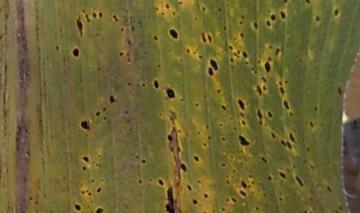tarspot: (166, 186, 174, 213), (75, 16, 84, 39), (79, 119, 90, 132), (167, 27, 178, 39), (238, 135, 250, 146), (209, 58, 219, 71), (70, 47, 80, 58), (166, 88, 175, 99), (295, 176, 304, 186), (180, 162, 187, 173), (238, 99, 245, 110), (201, 32, 207, 44), (256, 84, 262, 96), (207, 67, 214, 77), (279, 9, 286, 19), (265, 62, 271, 73), (283, 99, 289, 110), (336, 86, 343, 95), (257, 109, 263, 119), (112, 14, 119, 22), (109, 95, 116, 103), (261, 156, 268, 164), (239, 189, 247, 196), (280, 138, 286, 147), (289, 133, 295, 142), (241, 179, 247, 188), (269, 13, 276, 20), (279, 172, 286, 179), (157, 179, 164, 186), (85, 14, 91, 22), (82, 156, 90, 162), (167, 133, 173, 141), (253, 21, 259, 29), (75, 204, 81, 212), (96, 186, 102, 194), (279, 86, 284, 95), (334, 8, 339, 17), (95, 208, 104, 213), (242, 51, 248, 58), (265, 19, 271, 26), (239, 111, 245, 118), (138, 21, 144, 28), (318, 121, 325, 127), (55, 44, 60, 52), (154, 81, 159, 89), (276, 47, 280, 57), (287, 141, 292, 149), (309, 119, 314, 127), (327, 185, 332, 193), (208, 34, 212, 43), (194, 155, 200, 161), (176, 128, 182, 134), (239, 32, 245, 38), (192, 198, 198, 204), (99, 177, 105, 183), (285, 167, 291, 173), (95, 31, 101, 37), (165, 2, 170, 9), (202, 5, 207, 12), (267, 111, 272, 118), (271, 131, 276, 138), (268, 43, 273, 50), (187, 184, 192, 191), (28, 195, 33, 202), (95, 111, 101, 116), (127, 39, 132, 45), (153, 35, 158, 41), (228, 45, 234, 50), (242, 120, 247, 126), (278, 80, 284, 85), (179, 57, 184, 63), (204, 193, 209, 199), (225, 196, 230, 202), (339, 205, 344, 211), (97, 153, 102, 159), (93, 12, 97, 19), (131, 25, 135, 32), (186, 47, 190, 54), (98, 12, 103, 17), (119, 51, 124, 56), (102, 107, 107, 112), (120, 27, 125, 32), (127, 58, 132, 63), (141, 159, 146, 164), (217, 7, 222, 12), (223, 25, 228, 30), (202, 142, 207, 147), (298, 58, 303, 63), (306, 147, 311, 152), (138, 179, 143, 184), (232, 198, 237, 203), (197, 179, 202, 184), (211, 208, 216, 213), (192, 50, 197, 55), (309, 197, 314, 202), (177, 1, 183, 5), (97, 66, 101, 72), (222, 105, 226, 111), (194, 16, 198, 22), (230, 57, 234, 63), (306, 1, 312, 5), (316, 16, 320, 22), (263, 85, 267, 91), (262, 76, 266, 82), (284, 78, 288, 84), (257, 58, 261, 64), (290, 111, 294, 117), (302, 160, 308, 164), (230, 154, 234, 160), (81, 189, 85, 195), (310, 164, 314, 170), (125, 109, 129, 115), (103, 116, 108, 120), (124, 19, 129, 23), (127, 81, 131, 86), (161, 11, 165, 16), (156, 6, 160, 11), (172, 11, 176, 16), (82, 166, 87, 170), (217, 88, 221, 93), (195, 102, 199, 107), (199, 54, 203, 59), (197, 130, 201, 135), (205, 125, 209, 130), (179, 98, 184, 102), (239, 20, 243, 25), (241, 15, 245, 20), (237, 49, 241, 54), (222, 137, 226, 142), (259, 120, 263, 125), (268, 56, 272, 61), (254, 69, 258, 74), (219, 123, 224, 127), (233, 126, 237, 131), (222, 162, 226, 167), (314, 106, 318, 111), (268, 176, 272, 181), (232, 168, 236, 173), (251, 180, 255, 185), (255, 206, 260, 210), (222, 207, 226, 212), (263, 193, 267, 198), (303, 209, 308, 213), (279, 197, 283, 202), (88, 191, 92, 196), (95, 162, 99, 167), (309, 189, 313, 194), (217, 16, 222, 20), (241, 160, 244, 166), (82, 9, 86, 13), (142, 83, 146, 87), (157, 64, 161, 68), (208, 135, 212, 139), (251, 66, 255, 70), (233, 37, 237, 41), (159, 112, 163, 116), (226, 180, 230, 184), (248, 174, 252, 178), (91, 179, 95, 183), (234, 52, 237, 56), (284, 1, 288, 4), (246, 61, 249, 65), (237, 56, 240, 58)
